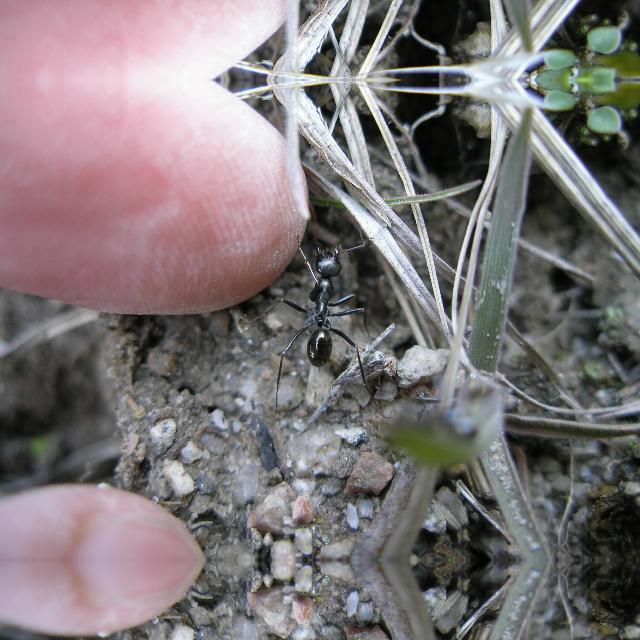Cataglyphis: (267, 231, 371, 379)
